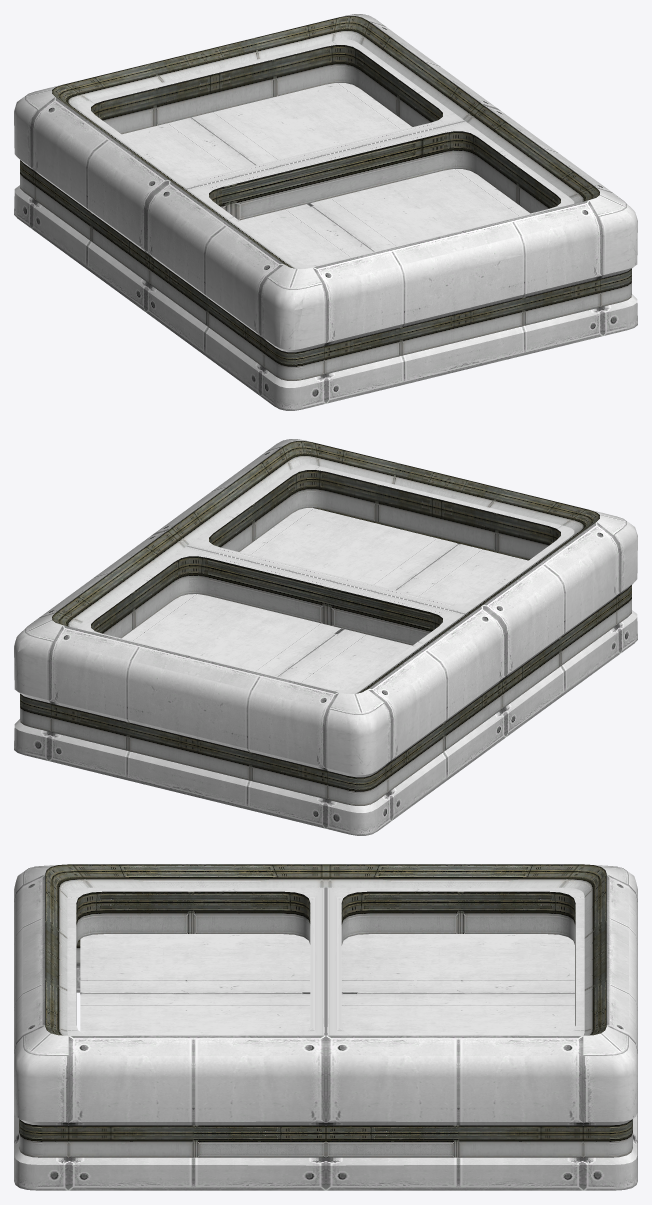
The model's file is Emb_PlanterBalc_3X4.FBX.
3 views of the same model, one above another, from view 1: azimuth 30°, elevation 25°; view 2: azimuth 150°, elevation 25°; view 3: azimuth 270°, elevation 25° (orthographic). The views are drawn at different scales.
Visible parts, largest first — view 1: Emb_PlanterBalc_3X4; view 2: Emb_PlanterBalc_3X4; view 3: Emb_PlanterBalc_3X4.
Boxes of the visible parts, x1,y1,x2,y2 form: Emb_PlanterBalc_3X4: [14, 14, 637, 410]; Emb_PlanterBalc_3X4: [14, 439, 637, 835]; Emb_PlanterBalc_3X4: [14, 864, 637, 1190].
Bounding box in the file's own units: 3 × 1 × 4.
